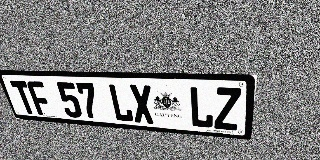5: (56, 82, 84, 118)
7: (74, 83, 102, 120)
F: (26, 81, 54, 116)
L: (189, 86, 214, 129), (107, 84, 134, 122)
T: (9, 80, 38, 115)
X: (129, 84, 155, 124)
Z: (214, 87, 241, 131)
